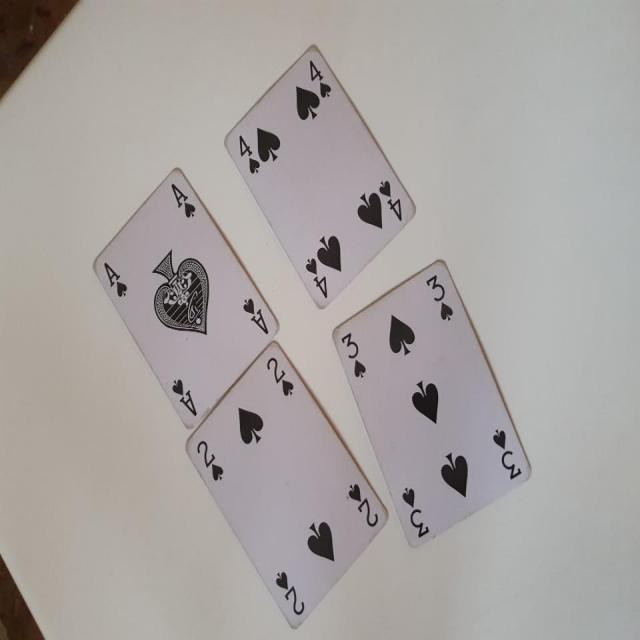3 Diamonds: (181, 338, 389, 630)
4 Diamonds: (330, 260, 536, 552)
5 Diamonds: (216, 37, 419, 313)
A Spades: (87, 162, 279, 426)
